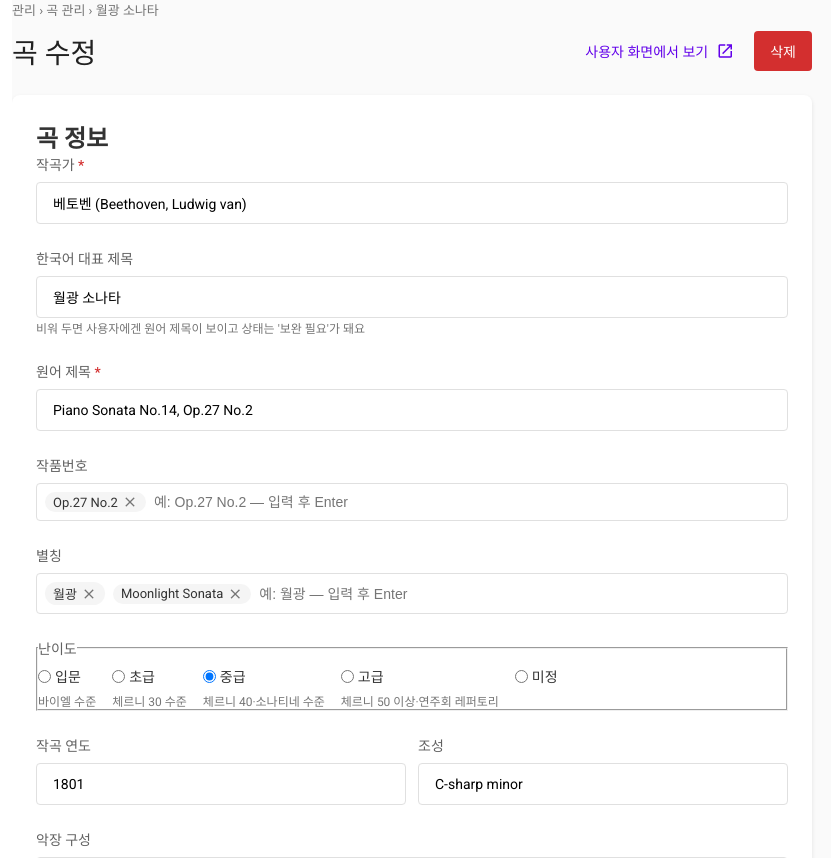
Test: WorkFormPage — 별칭 칩·겹침 경고 › 별칭을 추가하면 겹침을 조회하고 '다른 곡 20개에도 있어요' 를 보여준다
expect the field labelled "원어 제목" holds "Piano Sonata No.14, Op.27 No.2": met, box [36, 389, 788, 431]
Type "녹턴" into the field with placeholder "예: 월광 — 입력 후 Enter" at (519, 594), box [259, 586, 779, 602]
Then press Enter
(page scrolled)
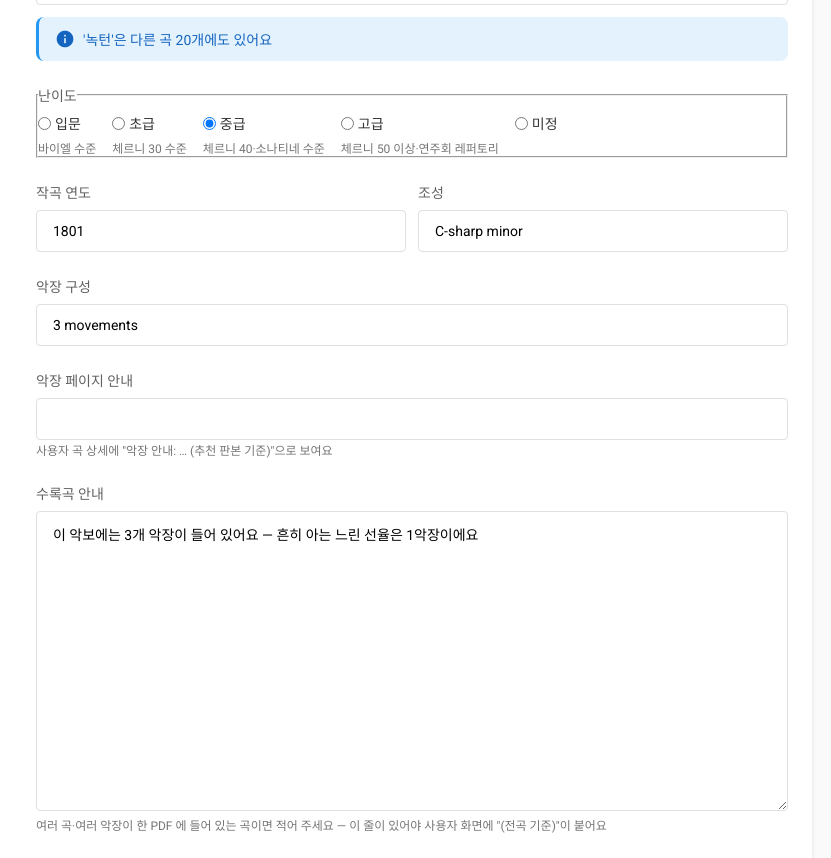
expect the element that starts with "곡 관리" shows "'녹턴'은 다른 곡 20개에도 있어요": met, box [83, 32, 272, 48]
